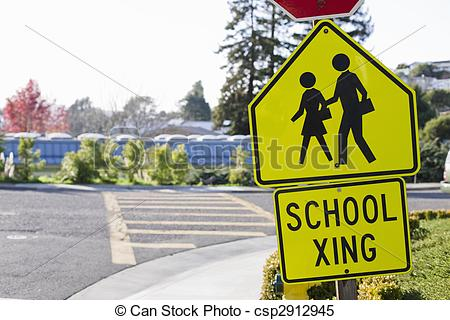slow: (246, 20, 425, 182)
